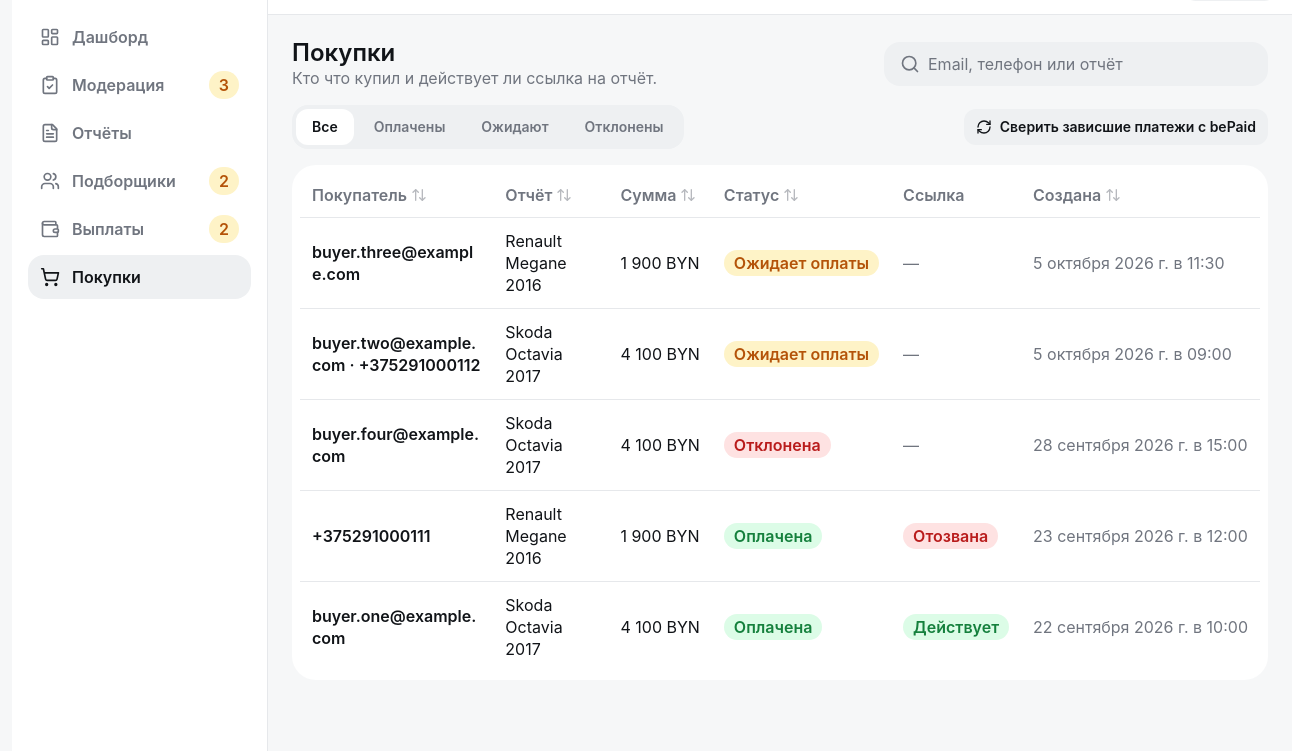
Test: поиск › покупка находится по email покупателя
Type "buyer.one" into the search field named "Поиск по покупкам" at (1076, 64), box x1=884 y1=42 x2=1268 y2=86
(page scrolled)
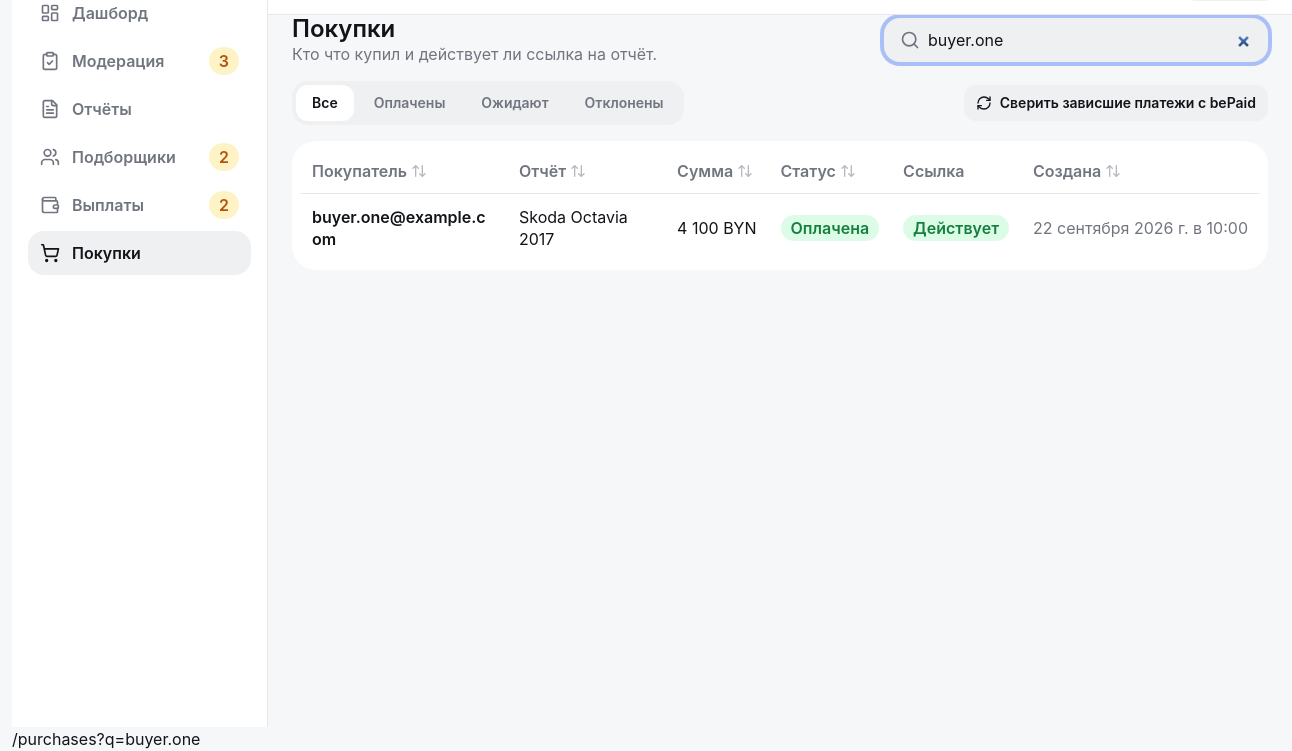
Check: the text with test id "location" shows "q=buyer.one", box x1=12 y1=729 x2=200 y2=749
